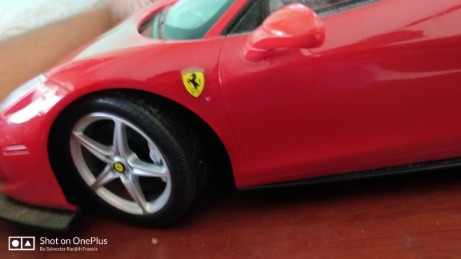unaligned_wheel: (48, 80, 247, 234)
